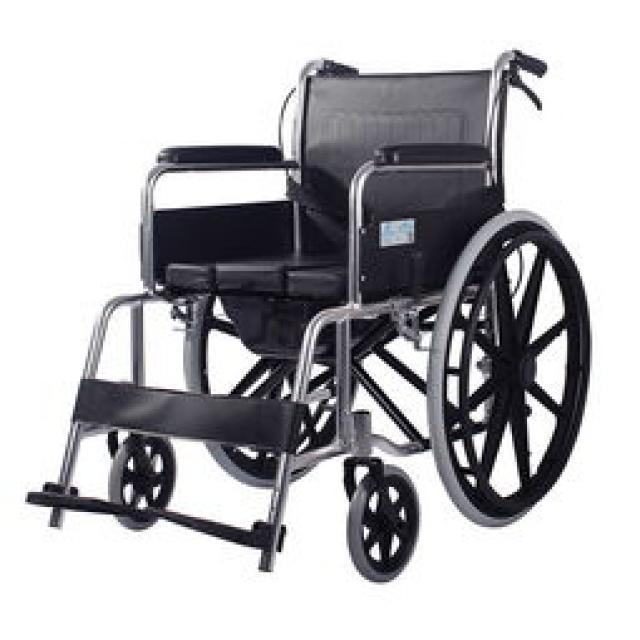wheelchair: (18, 40, 592, 590)
